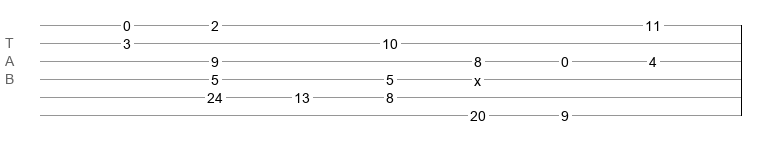0: (123, 18, 131, 28), (561, 54, 569, 64)
10: (382, 36, 398, 46)
11: (645, 18, 661, 28)
13: (294, 90, 310, 100)
2: (211, 18, 219, 28)
20: (470, 108, 486, 118)
24: (207, 90, 223, 100)
3: (123, 36, 131, 46)
4: (649, 54, 657, 64)
5: (211, 72, 219, 82), (386, 72, 394, 82)
8: (386, 90, 394, 100), (474, 54, 482, 64)
9: (211, 54, 219, 64), (561, 108, 569, 118)
x: (474, 73, 481, 81)
